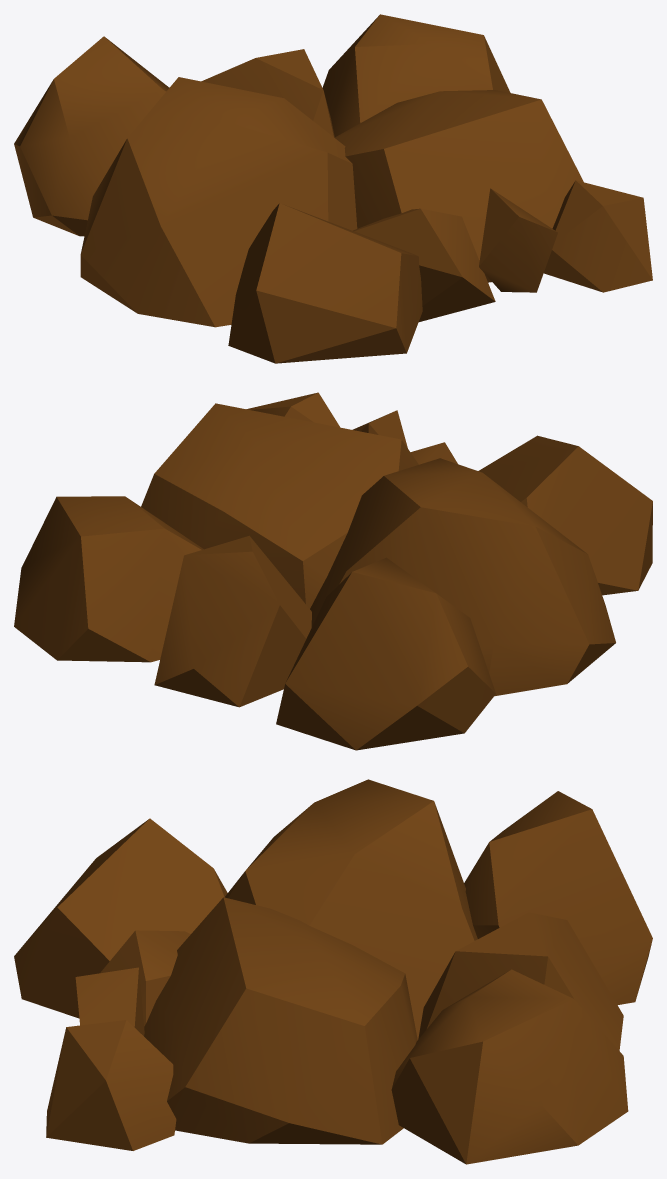
Rendered from Soil.glb.
3 views of the same model, one above another, from view 1: azimuth 30°, elevation 25°; view 2: azimuth 150°, elevation 25°; view 3: azimuth 270°, elevation 25° (orthographic). The views are drawn at different scales.
Parts seen in each view (by area): view 1: ground_rock.005; view 2: ground_rock.005; view 3: ground_rock.005.
Boxes of the visible parts, x1,y1,x2,y2 form: ground_rock.005: (14, 14, 652, 363); ground_rock.005: (14, 392, 652, 750); ground_rock.005: (14, 779, 652, 1164).
Size of the model in its own units: 2.58 by 0.9419 by 2.58.
